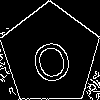O: (25, 30, 75, 87)
